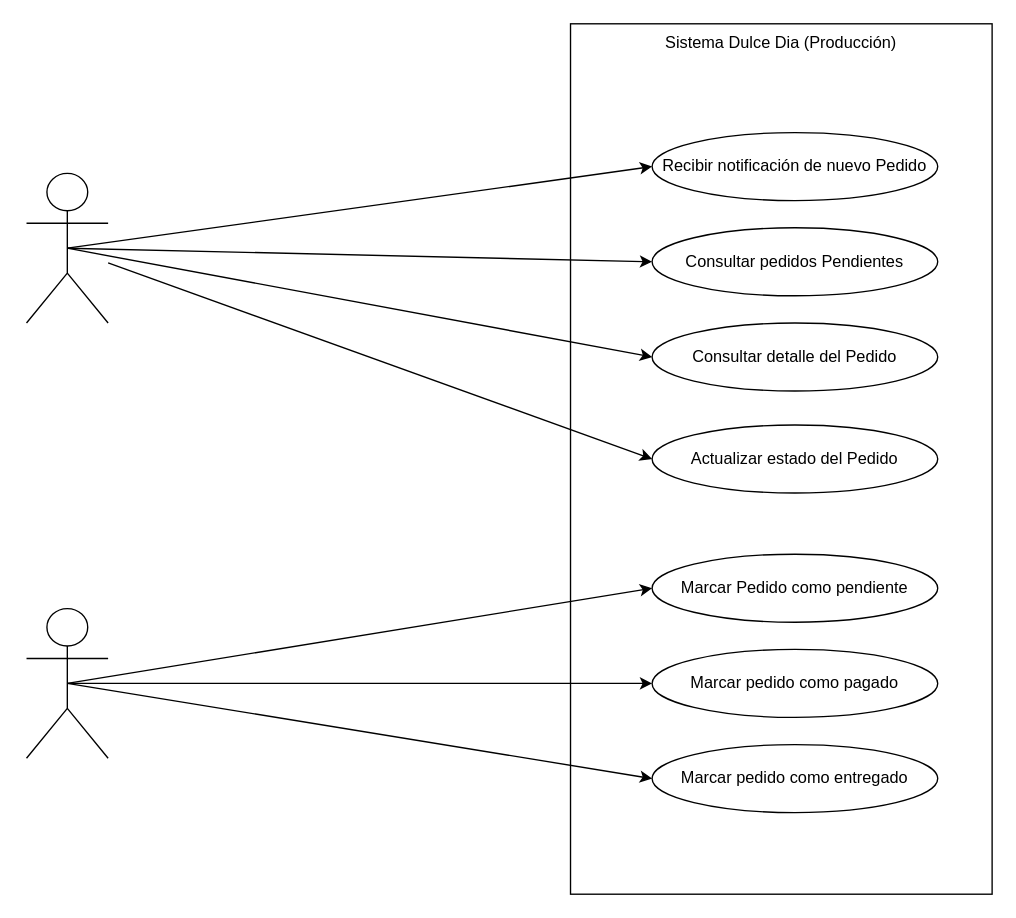
This 1016x918 diagram has some shape labels left out. The centre of each missing label's shape, as x and y in pixels:
Cliente: [66,247]
Personal de Atención: [66,682]
